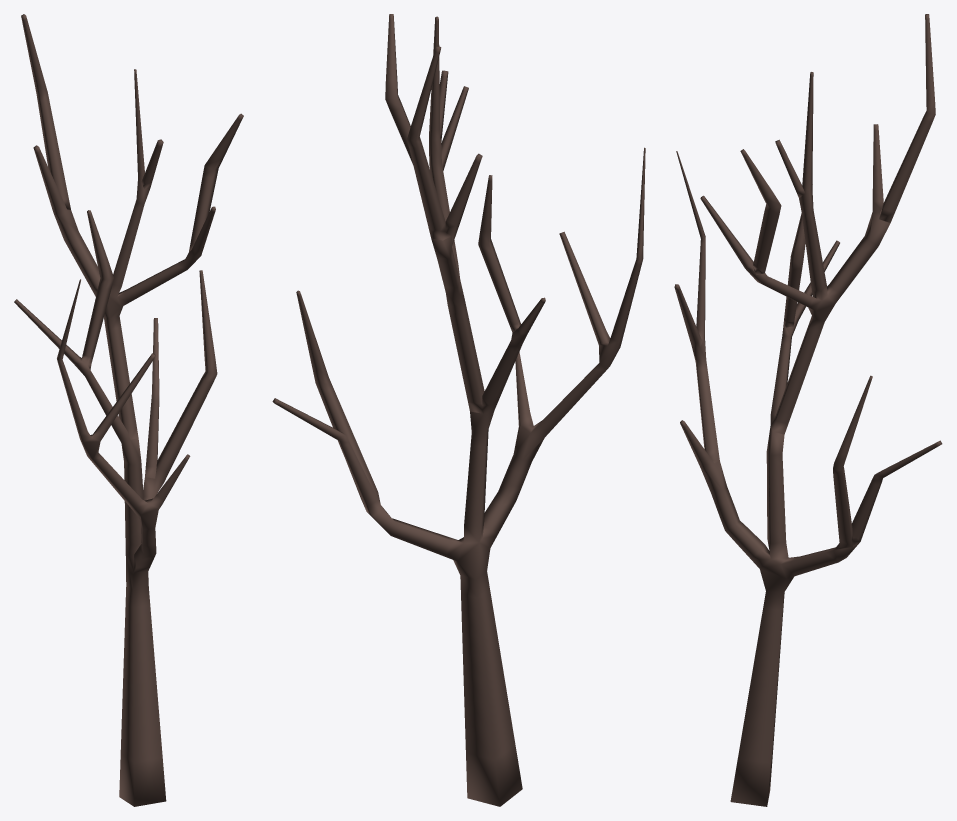
File: Tree3.glb
3 renders of one model, left to right at view 1: azimuth 30°, elevation 25°; view 2: azimuth 150°, elevation 25°; view 3: azimuth 270°, elevation 25°, orthographic. The views are drawn at different scales.
Parts seen in each view (by area): view 1: Tree3; view 2: Tree3; view 3: Tree3.
Part boxes in pixels (x1,y1,x2,y2): Tree3: [14, 14, 243, 806]; Tree3: [272, 14, 645, 806]; Tree3: [674, 14, 942, 806].
Size of the model in its own units: 2.01 by 6.26 by 1.98.
